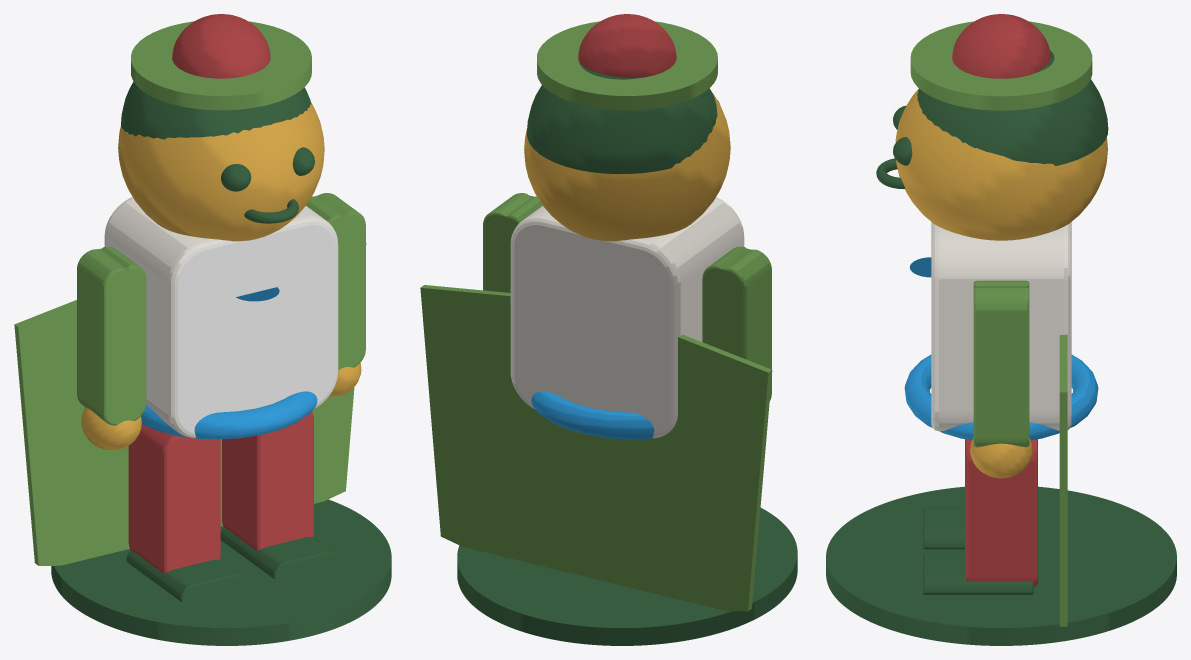
Rendered from 1315_中国古代寓言_愚公.glb.
The picture shows the model from 3 angles, left to right: view 1: azimuth 30°, elevation 25°; view 2: azimuth 150°, elevation 25°; view 3: azimuth 270°, elevation 25°; orthographic projection.
Parts seen in each view (by area): view 1: card_1315; view 2: card_1315; view 3: card_1315.
Part boxes in pixels (x1,y1,x2,y2): card_1315: (14, 14, 391, 645); card_1315: (420, 14, 797, 645); card_1315: (826, 14, 1176, 645).
Size of the model in its own units: 0.6439 by 1 by 0.5604.
